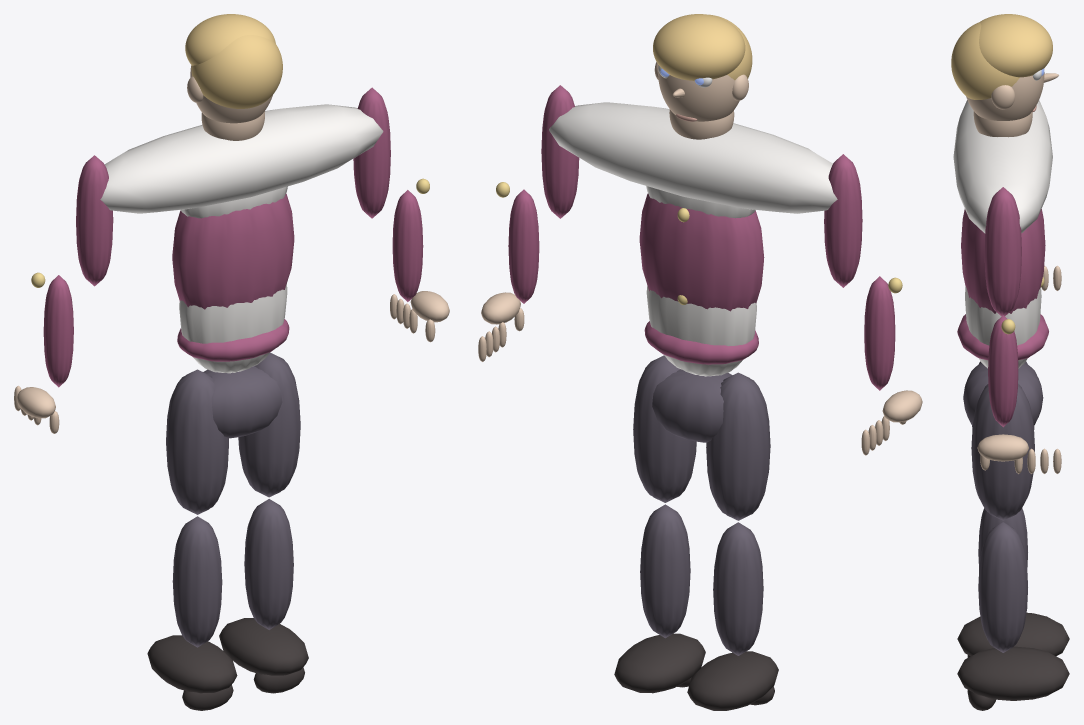
Rendered from spectator_b.glb.
3 renders of one model, left to right at view 1: azimuth 30°, elevation 25°; view 2: azimuth 150°, elevation 25°; view 3: azimuth 270°, elevation 25°, orthographic. The views are drawn at different scales.
Parts seen in each view (by area): view 1: Cube.004, Cylinder.008, Cylinder, Cylinder.003, Cylinder.001, Cylinder.002, Sphere.008, Cylinder.005, Cylinder.004, Cylinder.010, Cube, Cube.001 (+12 smaller); view 2: Cube.004, Cylinder.008, Cylinder, Cylinder.001, Cylinder.003, Cylinder.002, Sphere.009, Cylinder.005, Cylinder.004, Cube, Cube.001, Cylinder.010 (+9 smaller); view 3: Cube.004, Cylinder.003, Cylinder.002, Cube.001, Cylinder.017, Cylinder.008, Sphere.009, Cylinder.018, Sphere.008, Cube, Cylinder.005, Cylinder.004 (+7 smaller).
Boxes of the visible parts, x1,y1,x2,y2 form: Cube.004: (100,104,383,213); Cylinder.008: (172,193,294,309); Cylinder: (166,369,228,514); Cylinder.003: (244,499,293,629); Cylinder.001: (172,516,222,647); Cylinder.002: (238,352,300,497); Sphere.008: (191,35,282,108); Cylinder.005: (179,283,287,373); Cylinder.004: (203,366,282,438); Cylinder.010: (76,155,113,286); Cube: (147,635,237,693); Cube.001: (219,618,308,675); Cube.004: (549,102,837,213); Cylinder.008: (639,193,764,311); Cylinder: (706,372,770,520); Cylinder.001: (713,522,763,655); Cylinder.003: (640,504,690,638); Cylinder.002: (633,355,696,502); Sphere.009: (653,14,745,80); Cylinder.005: (646,286,756,376); Cylinder.004: (652,369,732,442); Cube: (687,651,778,710); Cube.001: (614,633,705,693); Cylinder.010: (824,154,862,287); Cube.004: (953,100,1052,233); Cylinder.003: (978,522,1027,652); Cylinder.002: (971,384,1034,520); Cube.001: (957,646,1069,700); Cylinder.017: (984,187,1021,316); Cylinder.008: (961,209,1045,313); Sphere.009: (979,14,1052,77); Cylinder.018: (988,315,1018,427); Sphere.008: (951,22,1019,99); Cube: (957,612,1069,656); Cylinder.005: (965,286,1041,368); Cylinder.004: (963,362,1043,425).
Size of the model in its own units: 1.77 by 2.69 by 0.4327.
